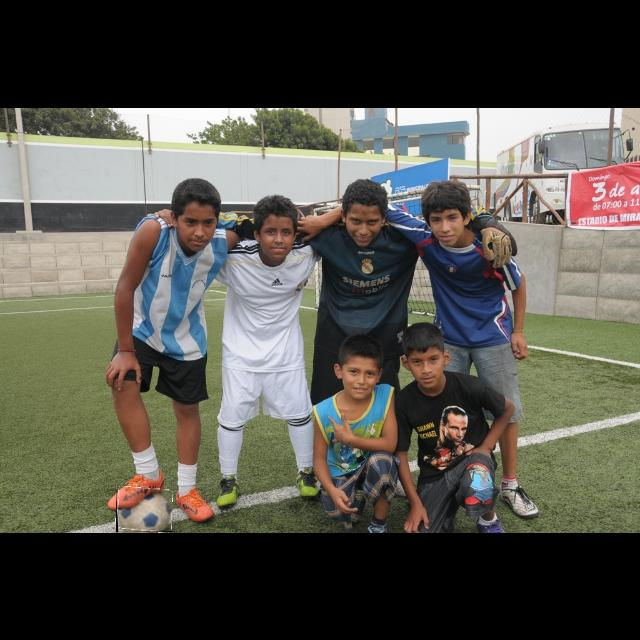Football: (116, 488, 172, 532)
